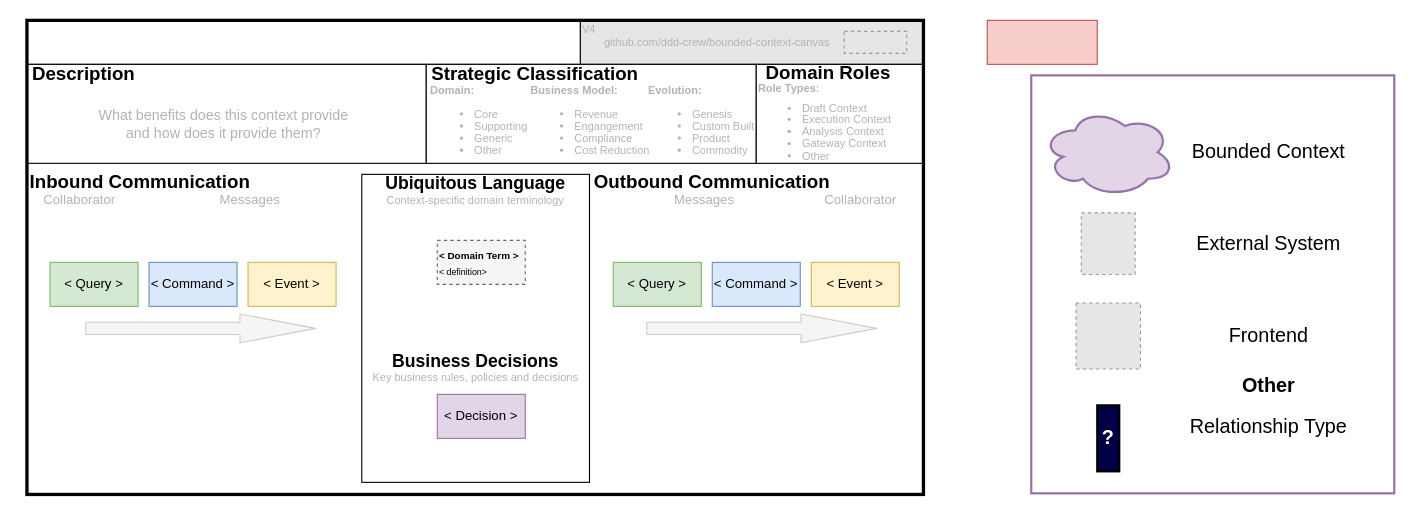
Some shapes in this 1414 by 515 pixel diagram are drawn without their labels. Grey dashed boxes stand in for pictures. Each missing label, with the centre of its shape:
Name:: the point at 303,41
Random Post-It: the point at 1041,41
